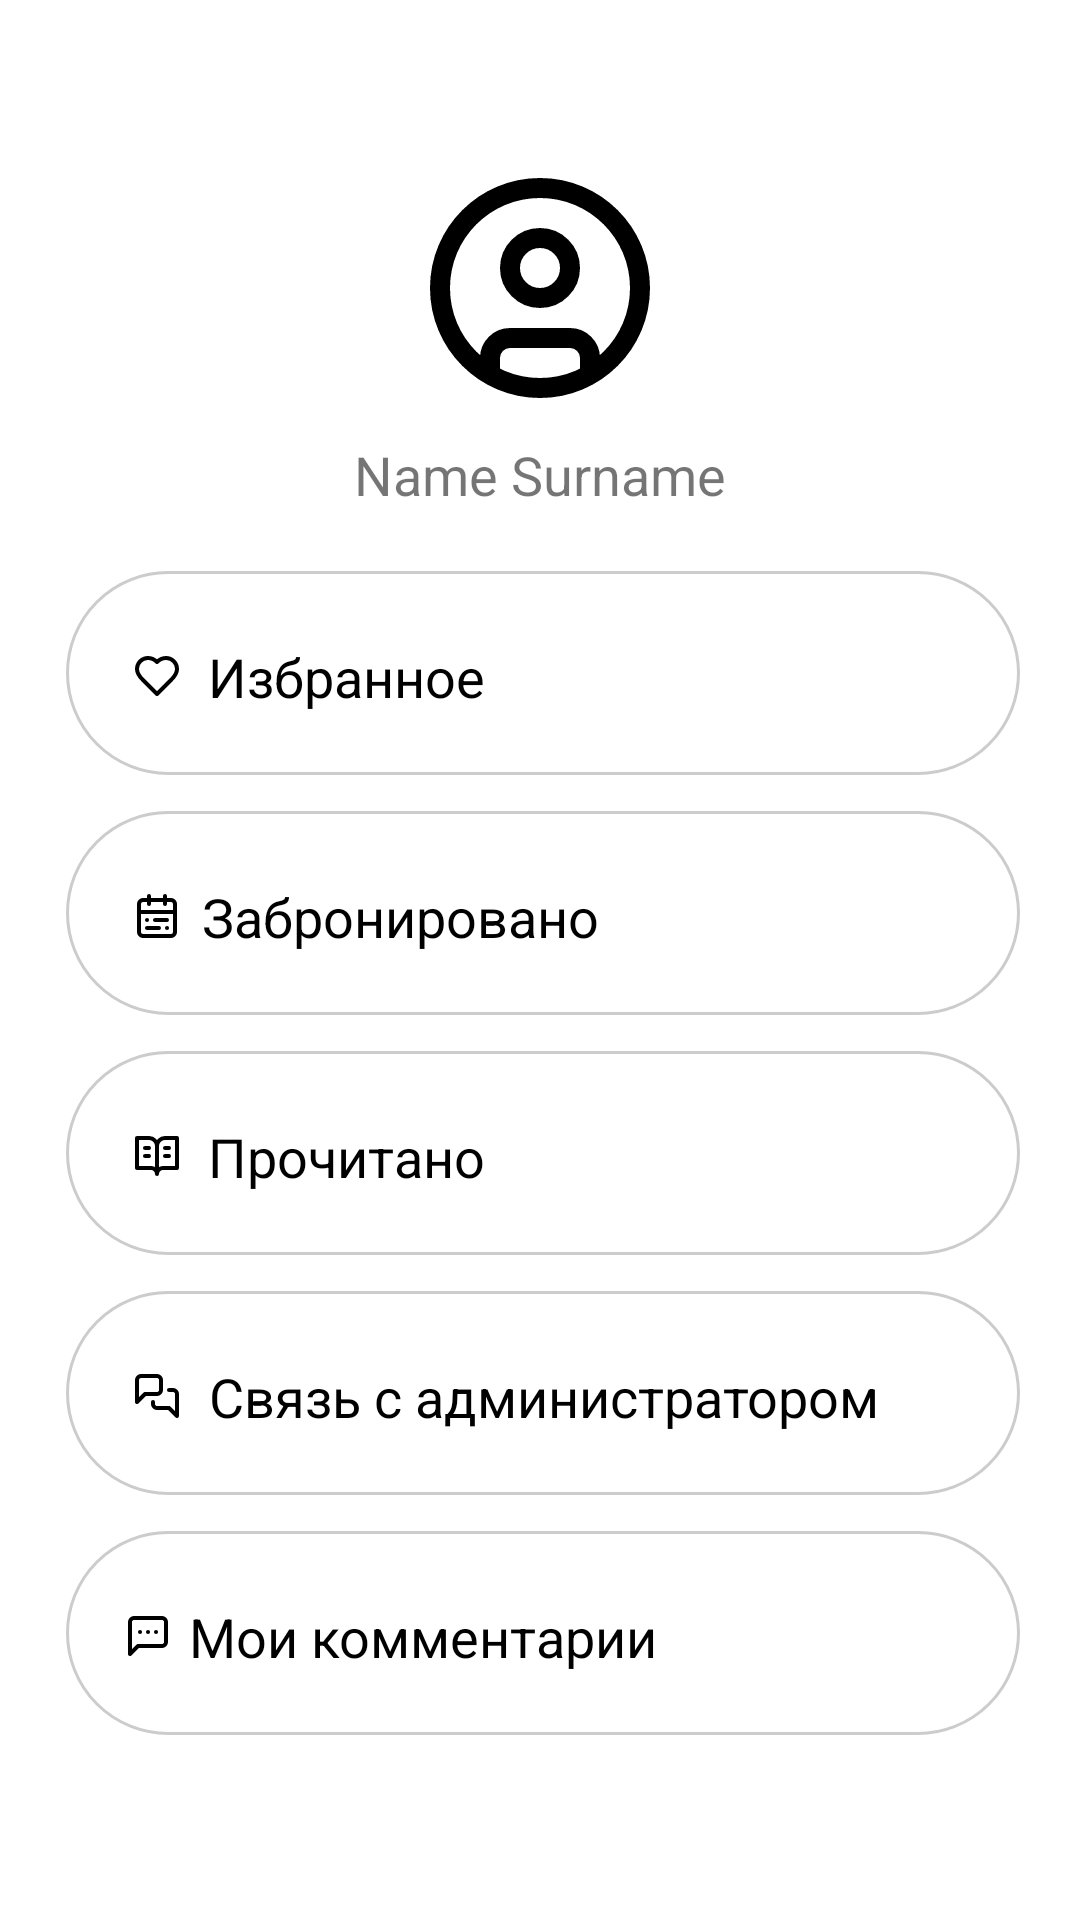

Icon click points for this 1080×1920 phone screenshot, format (x=x, y=y):
calendar: (x=157, y=916)
circle user: (x=540, y=288)
comments: (x=148, y=1636)
favourite: (x=157, y=676)
has read: (x=157, y=1156)
message admin: (x=157, y=1396)
